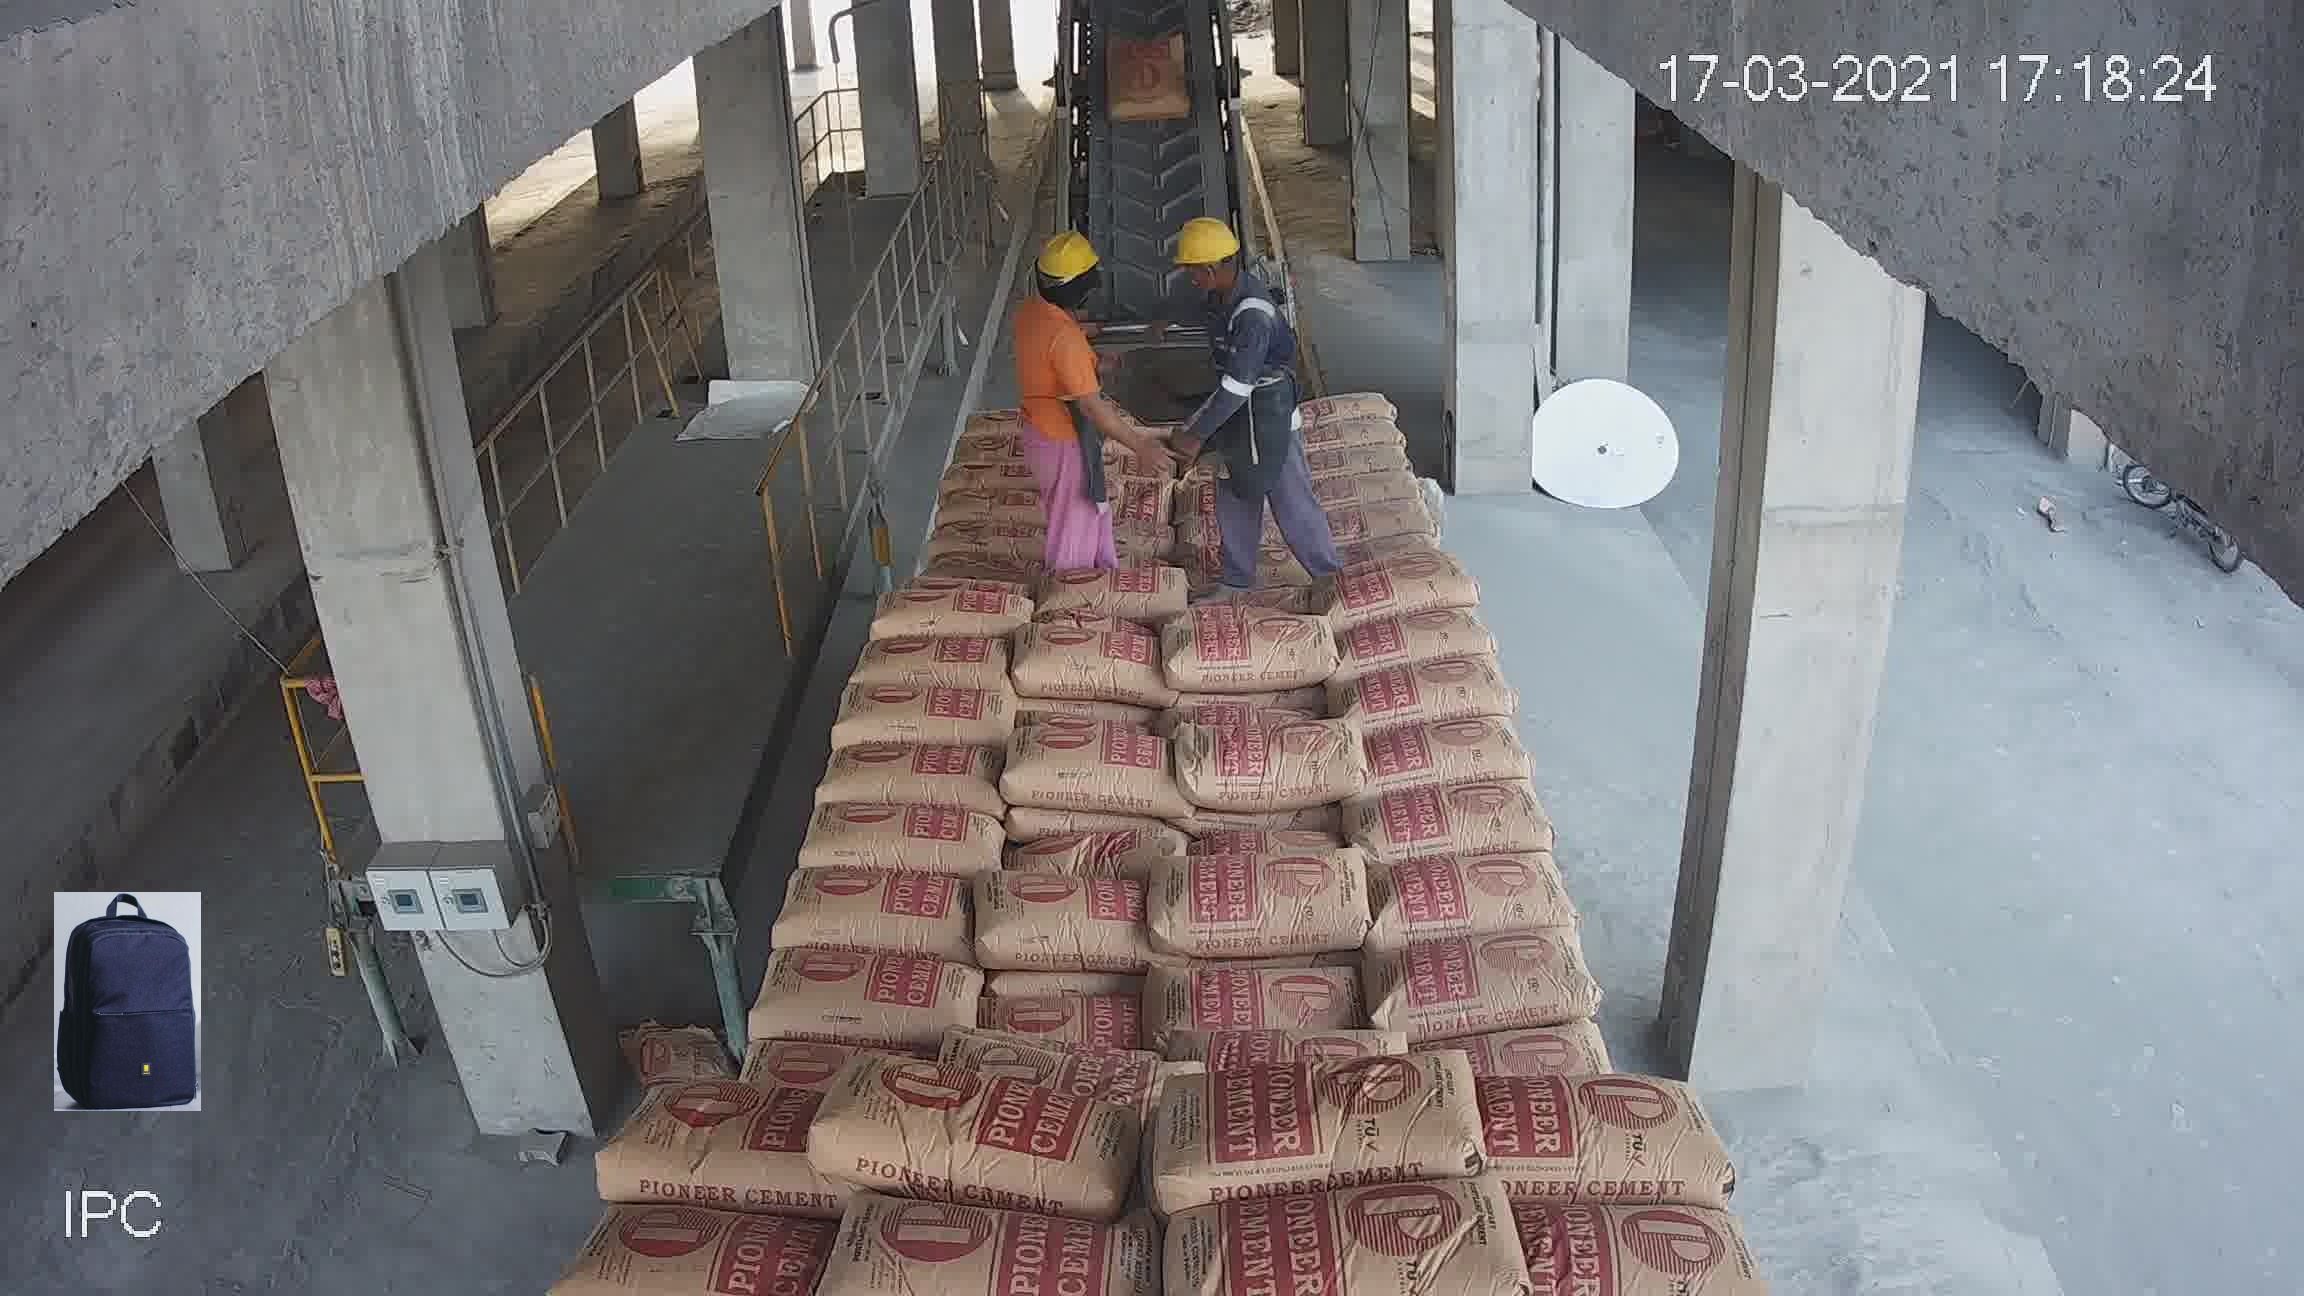bag_h: (821, 1044, 1157, 1201), (1160, 1044, 1481, 1207), (1139, 832, 1383, 964), (1476, 1074, 1703, 1204), (576, 1100, 813, 1214), (1350, 926, 1592, 1033), (725, 945, 1010, 1033), (1165, 692, 1370, 812), (1150, 937, 1366, 1044), (1348, 848, 1579, 942), (1355, 758, 1571, 851), (1150, 1008, 1393, 1082), (964, 877, 1157, 968), (1369, 699, 1544, 798), (766, 872, 980, 951), (798, 794, 989, 881), (1006, 720, 1177, 817), (1155, 600, 1326, 696), (824, 665, 1016, 747), (938, 1021, 1165, 1090), (1448, 1010, 1636, 1092), (820, 733, 1010, 812), (1359, 642, 1524, 731), (1002, 622, 1158, 707), (954, 980, 1130, 1055), (1328, 597, 1499, 673), (864, 622, 1021, 701), (1320, 548, 1472, 623), (1036, 544, 1185, 620), (1025, 692, 1184, 763), (864, 585, 1033, 644), (1021, 820, 1180, 878), (1328, 495, 1445, 552), (924, 524, 1049, 574), (1301, 430, 1426, 479), (1313, 464, 1442, 511), (1288, 381, 1410, 426), (904, 560, 1038, 600), (1285, 411, 1415, 449), (926, 497, 1048, 529), (924, 459, 1029, 491)
bag_v: (1103, 32, 1188, 123)
belt: (1040, 51, 1261, 478)
